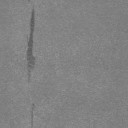red iron: (26, 6, 35, 78), (30, 103, 34, 128)
